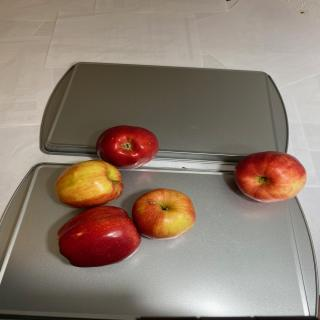Apple: (56, 205, 142, 268), (234, 150, 306, 202), (54, 160, 124, 208), (132, 188, 196, 240), (95, 125, 159, 169)
